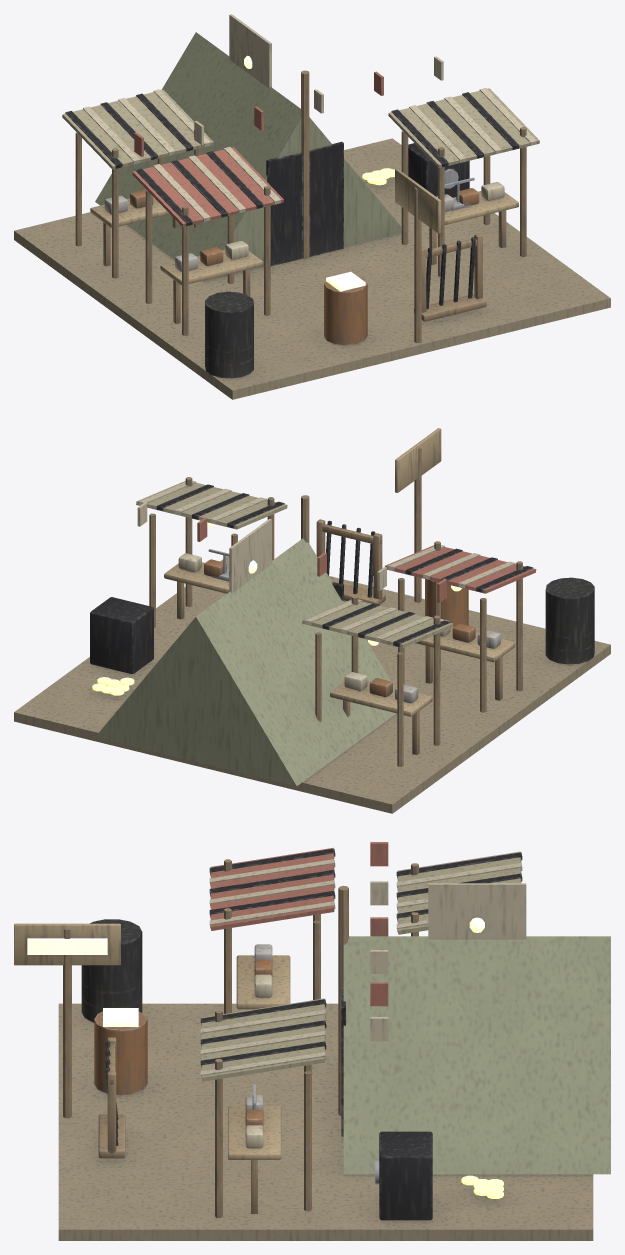
File: shadow_tech.glb
3 renders of one model, top to bottom at view 1: azimuth 30°, elevation 25°; view 2: azimuth 150°, elevation 25°; view 3: azimuth 270°, elevation 25°, orthographic. The views are drawn at different scales.
Visible parts, largest first — view 1: Hull; view 2: Hull; view 3: Hull.
Boxes of the visible parts, x1,y1,x2,y2 form: Hull: (14,14,610,399); Hull: (14,428,610,813); Hull: (14,842,610,1240).
Bounding box in the file's own units: 6.03 × 3.02 × 6.7.
14 materials, 14 textured.
